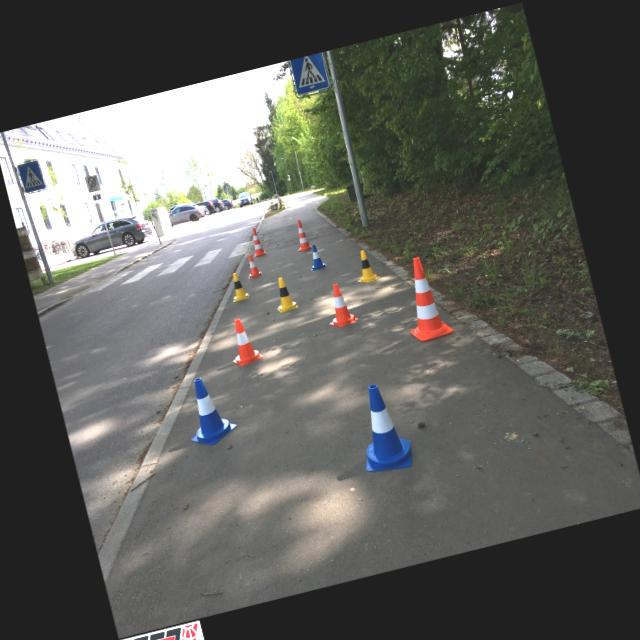blue_cone: (346, 378, 416, 477), (177, 372, 240, 449), (304, 242, 327, 270)
large_orange_cone: (393, 252, 453, 344), (290, 218, 312, 252), (247, 226, 267, 257)
orange_cone: (222, 314, 264, 368), (320, 279, 360, 329), (242, 252, 262, 278)
yellow_cone: (350, 247, 380, 284), (270, 274, 298, 312), (227, 270, 250, 302)
